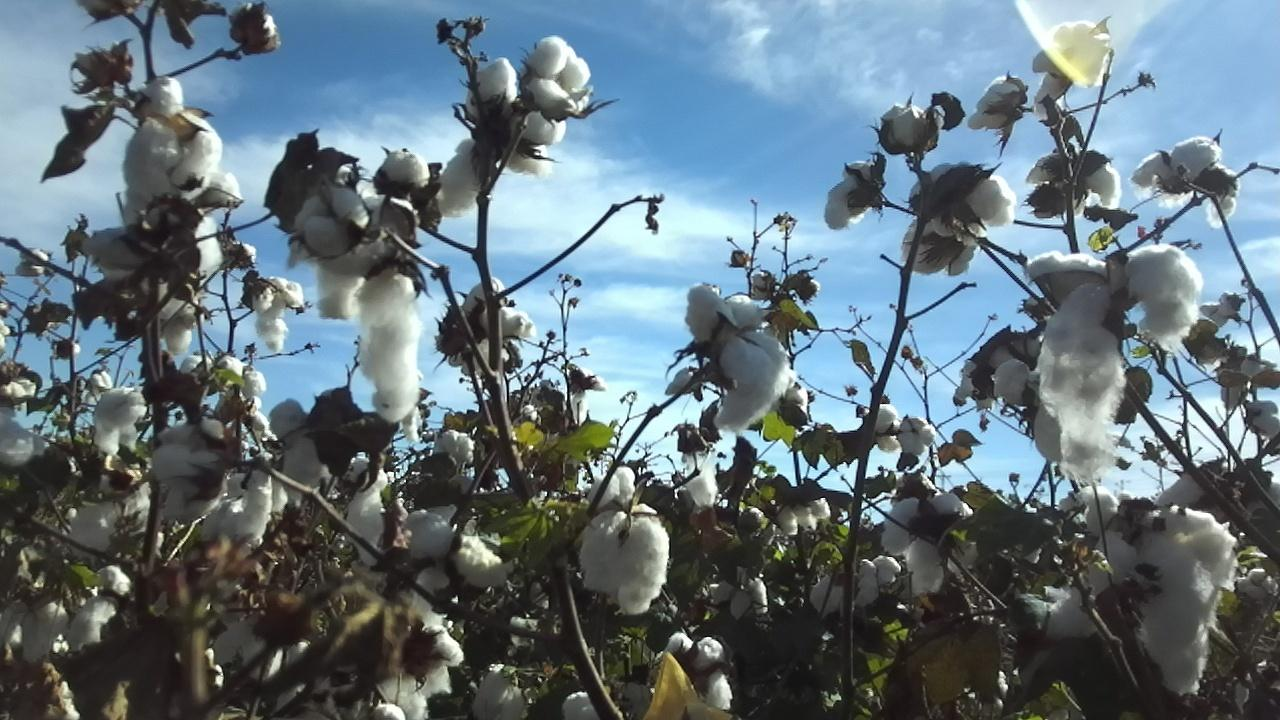cotton_ready: (1027, 243, 1203, 478), (1078, 484, 1239, 696), (442, 59, 568, 218), (124, 73, 242, 210), (315, 269, 421, 418), (685, 284, 790, 433), (902, 162, 1014, 276), (87, 194, 224, 278), (376, 604, 465, 720), (1130, 140, 1237, 230), (580, 504, 669, 610), (880, 489, 966, 596), (405, 510, 506, 600), (150, 415, 229, 522), (296, 187, 394, 267), (270, 398, 336, 511), (197, 469, 288, 546), (952, 331, 1042, 407), (1032, 25, 1106, 115), (1027, 153, 1121, 221), (466, 277, 536, 368), (218, 354, 277, 442), (527, 36, 589, 117), (668, 631, 733, 708), (345, 454, 389, 563), (824, 163, 881, 230), (254, 277, 304, 353), (93, 387, 147, 455), (879, 98, 937, 153), (159, 283, 199, 355), (969, 76, 1020, 132), (229, 7, 278, 55), (378, 148, 430, 191)
